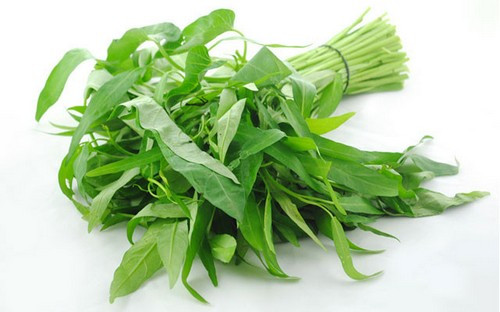Kangkung: (33, 17, 483, 244)
